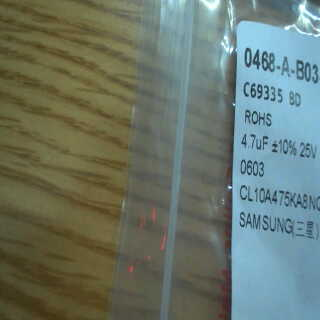4.7uF: (238, 130, 272, 154)
